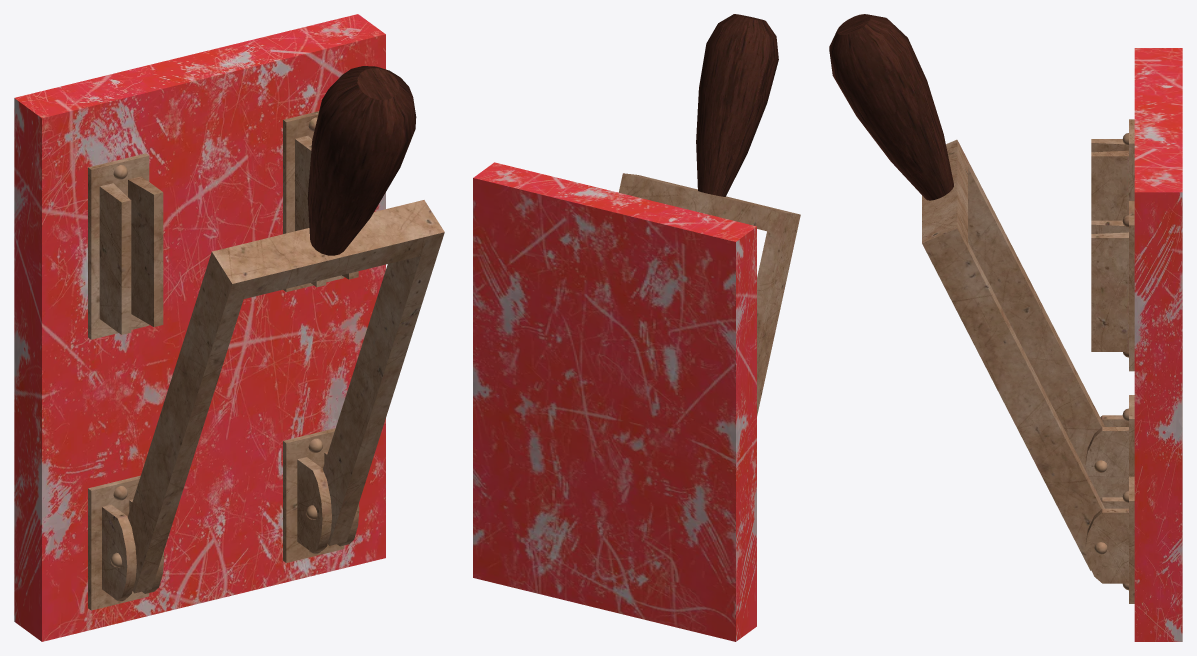
Rendered from switch.glb.
3 views of the same model, side by side, from view 1: azimuth 30°, elevation 25°; view 2: azimuth 150°, elevation 25°; view 3: azimuth 270°, elevation 25° (orthographic). The views are drawn at different scales.
Parts seen in each view (by area): view 1: SwitchMain_SwitchMain_0, SwitchHandle_SwitchHandle_0; view 2: SwitchMain_SwitchMain_0, SwitchHandle_SwitchHandle_0; view 3: SwitchMain_SwitchMain_0, SwitchHandle_SwitchHandle_0.
Part boxes in pixels (left/top/right/bottom): SwitchMain_SwitchMain_0: left=14, top=14, right=385, bottom=641; SwitchHandle_SwitchHandle_0: left=127, top=66, right=444, bottom=593; SwitchMain_SwitchMain_0: left=473, top=162, right=756, bottom=641; SwitchHandle_SwitchHandle_0: left=618, top=14, right=800, bottom=415; SwitchMain_SwitchMain_0: left=1085, top=48, right=1182, bottom=641; SwitchHandle_SwitchHandle_0: left=829, top=14, right=1104, bottom=570.
Size of the model in its own units: 0.1297 by 0.2319 by 0.1342.
Materials: 2 (2 with a texture image).
